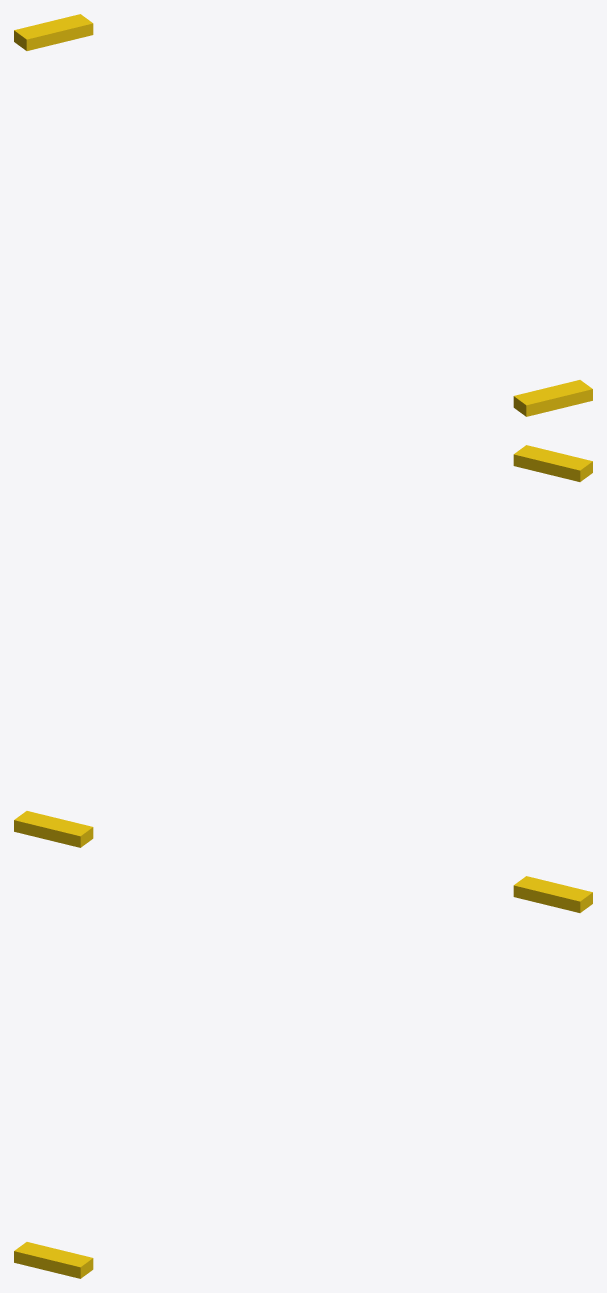
Rendered from Platl Lvl 1.fbx.
3 views of the same model, one above another, from view 1: azimuth 30°, elevation 25°; view 2: azimuth 150°, elevation 25°; view 3: azimuth 330°, elevation 25° (orthographic).
Parts seen in each view (by area): view 1: Platform.007, Platform.004, Platform.006, Platform.001, Platform.003, Platform.005; view 2: Platform.004, Platform.007, Platform.003, Platform.005, Platform.001, Platform.006; view 3: Platform.003, Platform.006, Platform.004, Platform.001, Platform.005, Platform.007.
Boxes of the visible parts, x1,y1,x2,y2 form: Platform.007: (513, 390, 548, 416); Platform.004: (14, 25, 48, 50); Platform.006: (58, 14, 93, 40); Platform.001: (536, 385, 570, 411); Platform.003: (558, 380, 592, 405); Platform.005: (36, 19, 71, 45); Platform.004: (58, 821, 93, 847); Platform.007: (558, 456, 592, 481); Platform.003: (513, 445, 548, 471); Platform.005: (36, 816, 70, 842); Platform.001: (535, 450, 570, 476); Platform.006: (14, 811, 48, 836); Platform.003: (58, 1252, 93, 1278); Platform.006: (558, 887, 592, 912); Platform.004: (513, 876, 548, 902); Platform.001: (36, 1247, 70, 1273); Platform.005: (535, 881, 570, 907); Platform.007: (14, 1242, 48, 1267).
Bounding box in the file's own units: 600 × 100 × 8000.
